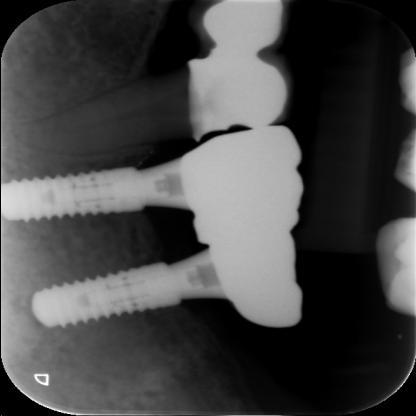ITI: (27, 258, 183, 344), (10, 156, 160, 238)
